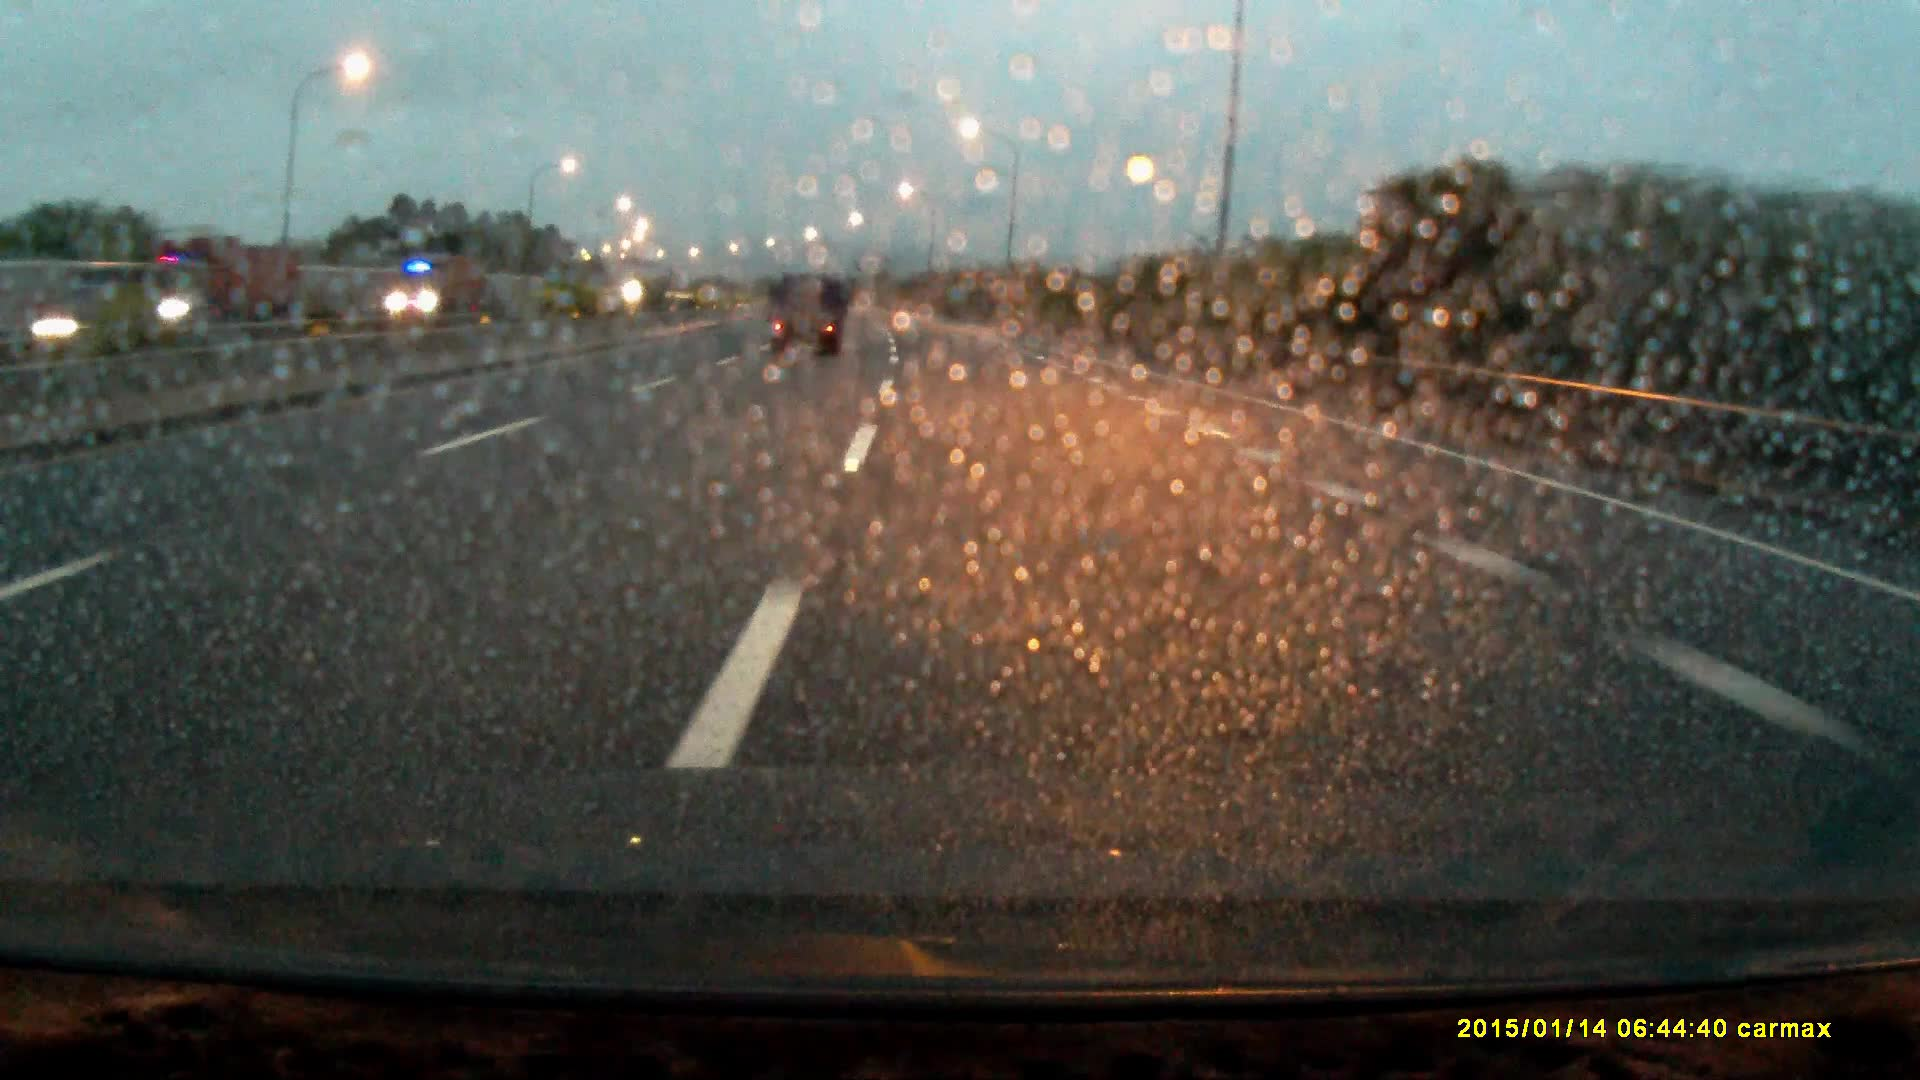vehicle: (109, 239, 293, 334), (766, 273, 847, 361), (382, 252, 483, 319)
